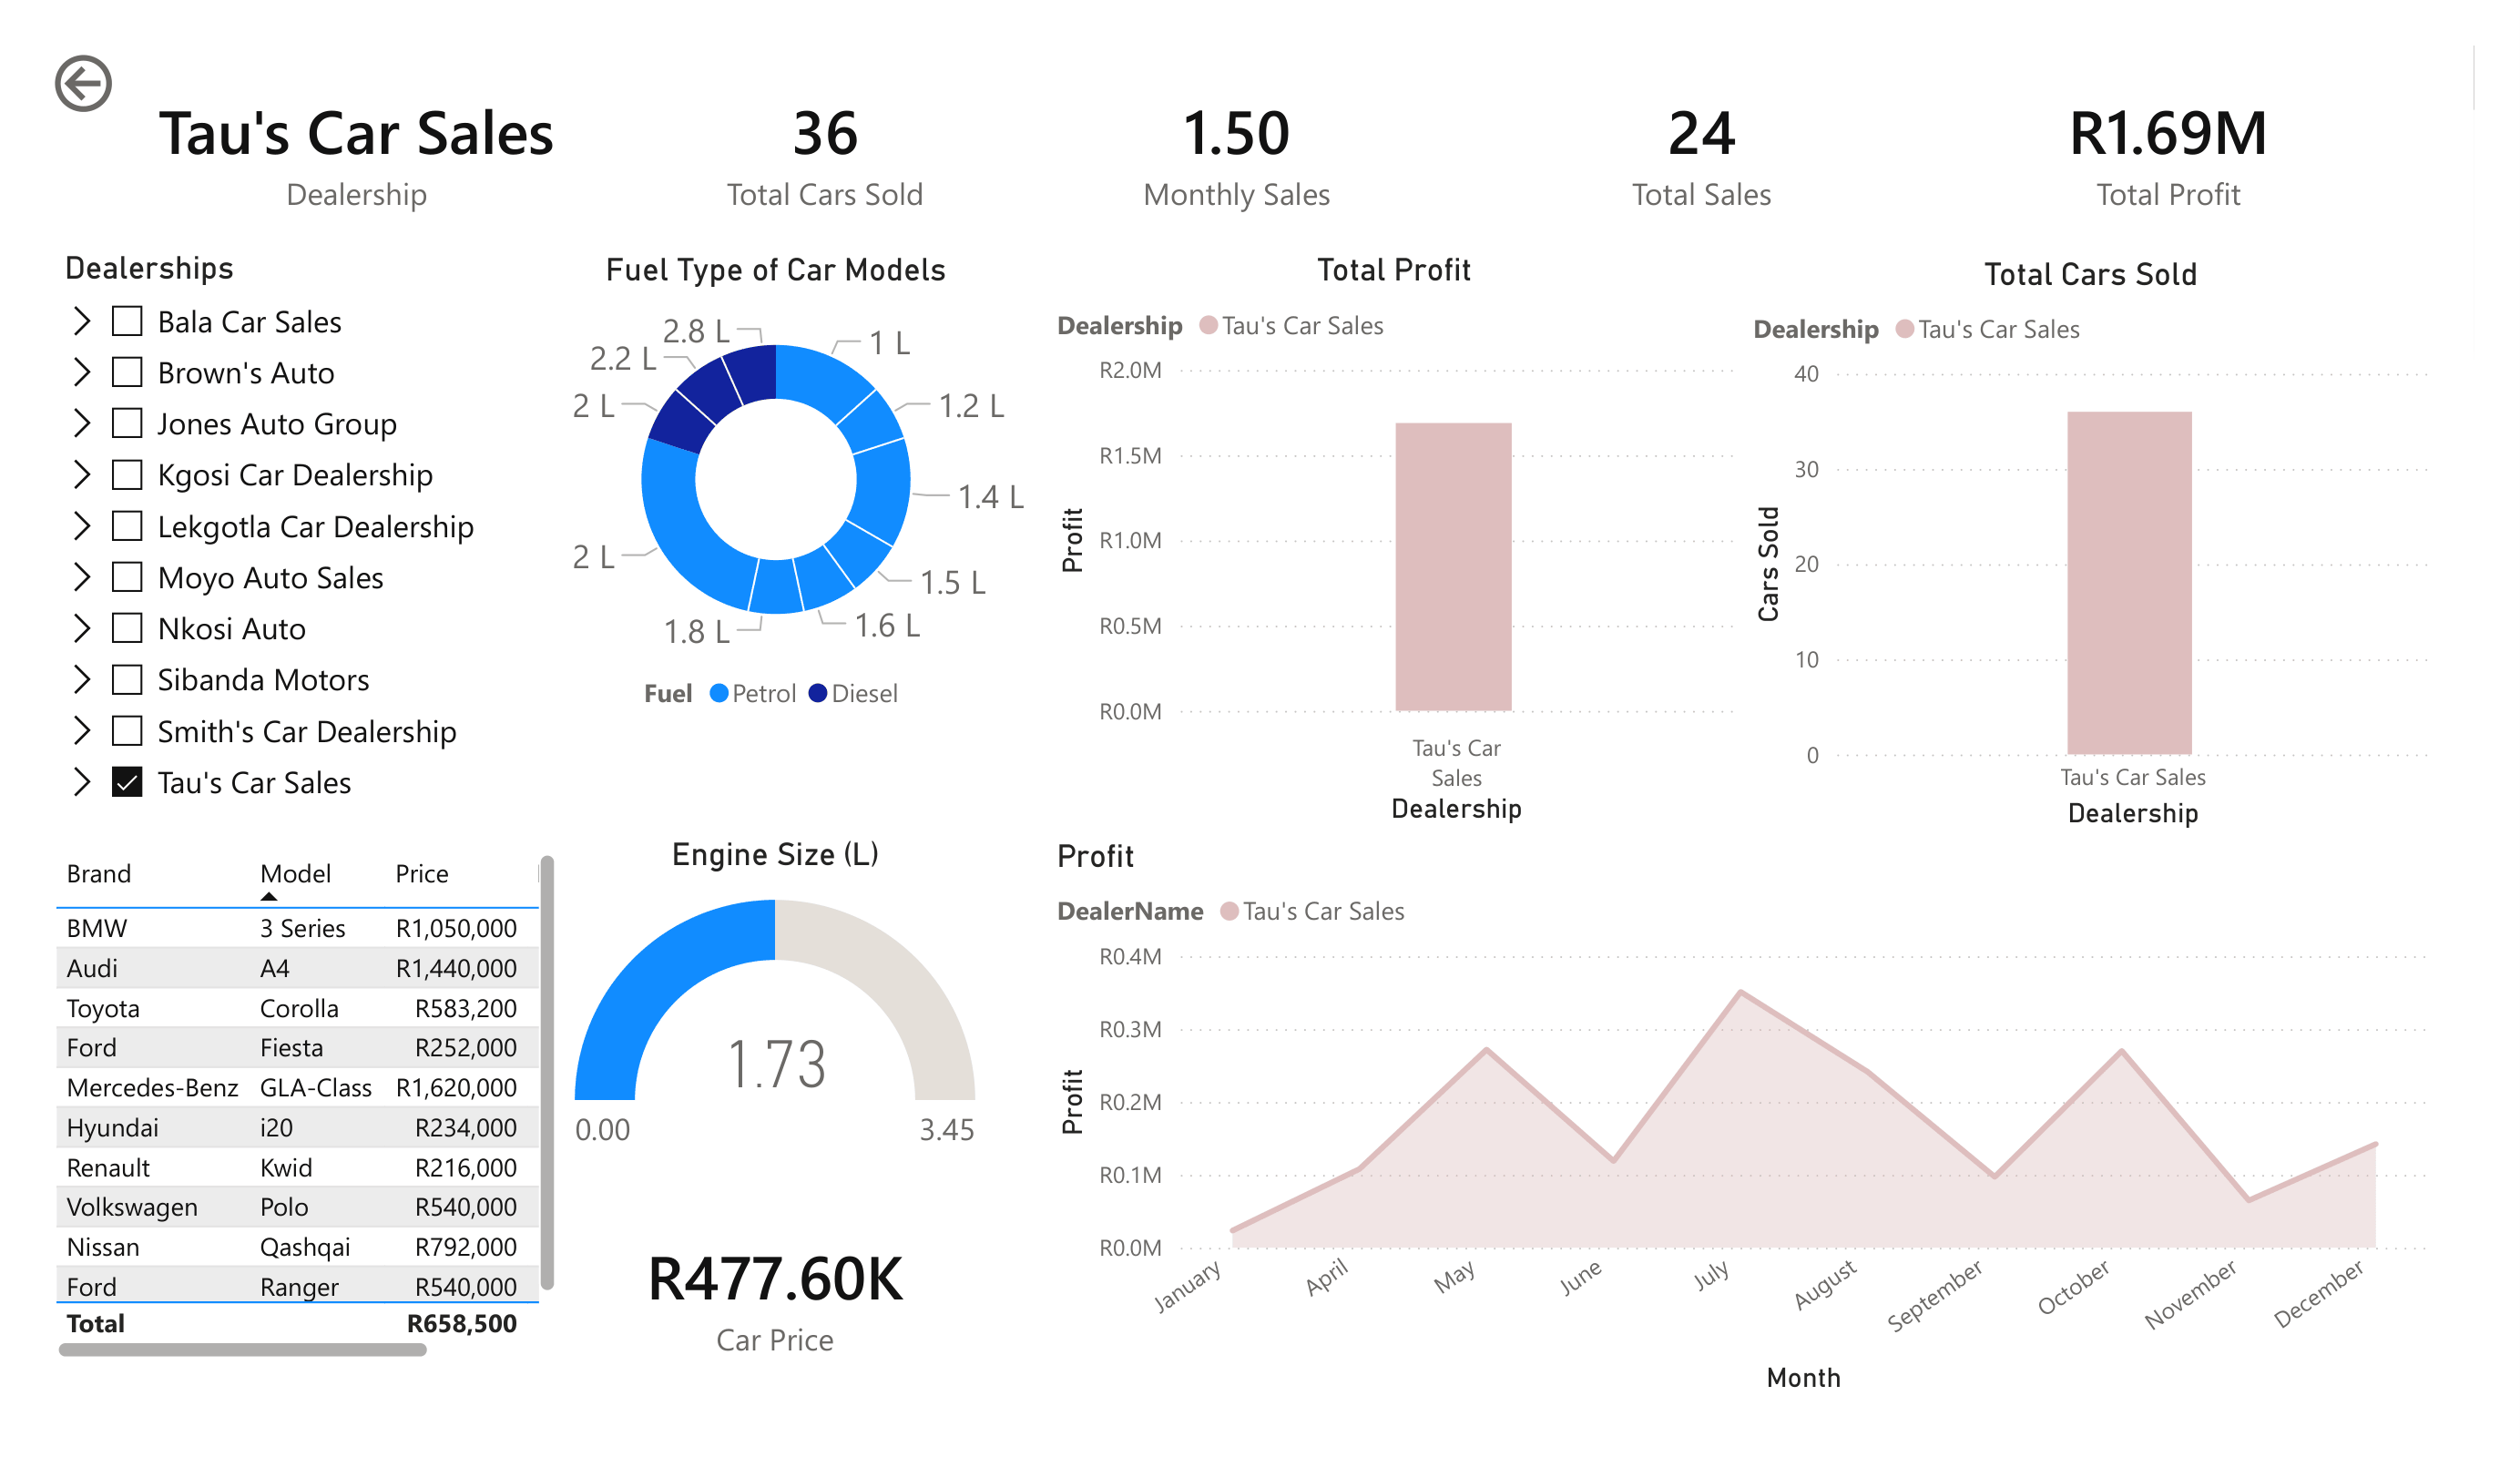

Layout of this report page (visuals, bound fields, positions):
{"tool":"powerbi","page":{"name":"Page 1","canvas":[1280,720],"ordinal":0},"visuals":[{"type":"cardVisual","fields":{"Data":["CountNonNull(Sales.Quantity)"]},"box":[801.4,0,144.1,109.8],"z":0},{"type":"cardVisual","fields":{"Data":["Sum(Sales.Quantity)"]},"box":[327.7,0,166.3,110.1],"z":1000},{"type":"cardVisual","fields":{"Data":["Sum(Sales.Total Profit (ZAR))"]},"box":[1012.7,0,212.7,109.8],"z":2000},{"type":"tableEx","fields":{"Values":["Models.Brand","Models.Model","Models.Price (ZAR)"]},"box":[9.6,362.3,262.1,355.4],"z":3000},{"type":"cardVisual","fields":{"Data":["Avg(Sales.Quantity)"]},"box":[548.9,0,157.8,109.8],"z":4000},{"type":"cardVisual","fields":{"Data":["Min(Dealers.DealerName)"]},"box":[23.2,0,265.4,110.1],"z":5000},{"type":"donutChart","title":"Fuel Type of Car Models","fields":{"Category":["Models.Fuel"],"Y":["CountNonNull(Models.Fuel)"],"Series":["Models.Engine Sizes (L)"]},"box":[242.1,107.6,286.1,251.9],"z":6000},{"type":"tableEx","fields":{"Values":["Dealers.DealerID","Dealers.DealerName"]},"box":[9.8,99,232.3,249.5],"z":7000},{"type":"gauge","fields":{"Y":["Avg(Models.EngineSize (L))"]},"box":[273.9,414.5,221.3,187.1],"z":8000},{"type":"columnChart","title":"Total Profit","fields":{"Category":["Dealers.DealerName","Sales.Date.Variation.Date Hierarchy.Month","Dealers.City","Models.Brand","Models.Model"],"Y":["Sum(Sales.Total Profit (ZAR))"],"Series":["Dealers.DealerName"]},"box":[528.3,107.6,365.6,306.9],"z":9000},{"type":"columnChart","title":"Total Cars Sold","fields":{"Category":["Dealers.DealerName","Dealers.City","Models.Segment","Models.Model"],"Y":["Sum(Sales.Quantity)"],"Series":["Dealers.DealerName"]},"box":[894.7,109.8,366.4,307.4],"z":10000},{"type":"actionButton","box":[0,0,100,40],"z":11000},{"type":"lineChart","title":"Monthly Profit (ZAR)","fields":{"Category":["Sales.Date.Variation.Date Hierarchy.Month","Dealers.Country","Dealers.City"],"Series":["Dealers.DealerName"],"Y":["Avg(Sales.Total Profit (ZAR))"]},"box":[528.3,417.2,731.4,303.3],"z":12000},{"type":"cardVisual","fields":{"Data":["Avg(Models.Price (ZAR))"]},"box":[271.5,584.5,216.4,135.7],"z":13000}]}

Visuals, with their boxes on the page's 1280x720 design canvas (x1, y1, x2, y2). These are canvas units, not pixel positions in the 2520x1457 screenshot, which may show the page scaled, cropped or inside an application window:
cardVisual - CountNonNull(Sales.Quantity): BBox(801, 0, 946, 110)
cardVisual - Sum(Sales.Quantity): BBox(328, 0, 494, 110)
cardVisual - Sum(Sales.Total Profit (ZAR)): BBox(1013, 0, 1225, 110)
tableEx - Models.Brand x Models.Model: BBox(10, 362, 272, 718)
cardVisual - Avg(Sales.Quantity): BBox(549, 0, 707, 110)
cardVisual - Min(Dealers.DealerName): BBox(23, 0, 289, 110)
"Fuel Type of Car Models" donutChart: BBox(242, 108, 528, 360)
tableEx - Dealers.DealerID x Dealers.DealerName: BBox(10, 99, 242, 348)
gauge - Avg(Models.EngineSize (L)): BBox(274, 414, 495, 602)
"Total Profit" columnChart: BBox(528, 108, 894, 414)
"Total Cars Sold" columnChart: BBox(895, 110, 1261, 417)
actionButton: BBox(0, 0, 100, 40)
"Monthly Profit (ZAR)" lineChart: BBox(528, 417, 1260, 720)
cardVisual - Avg(Models.Price (ZAR)): BBox(272, 584, 488, 720)
